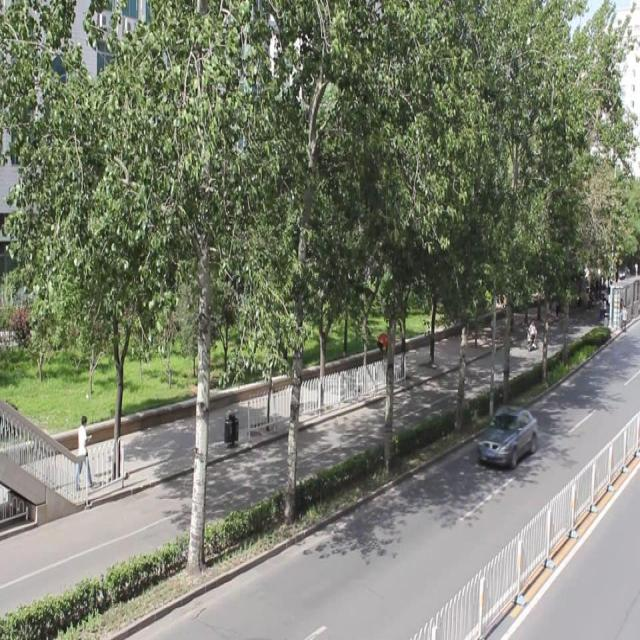car: (474, 403, 536, 467)
